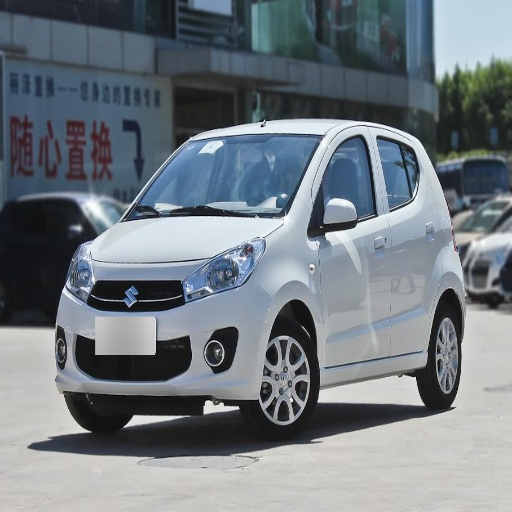front_bumper: (56, 258, 278, 398)
front_glass: (123, 138, 322, 220)
front_left_door: (309, 131, 390, 367)
